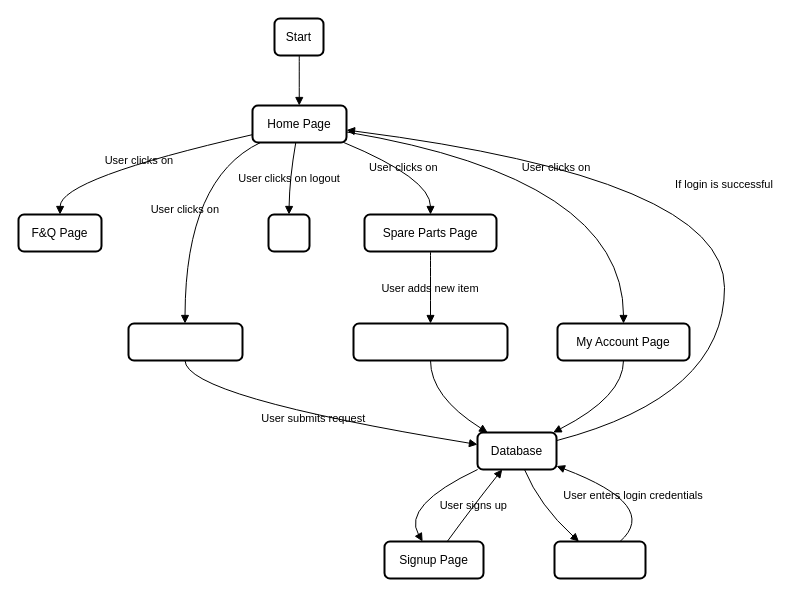
This 790x596 diagram has some shape labels left out. Here are the shapes that lost their labels. From the top down, the centre of each, then its label:
At pixel 288 232: "End".
At pixel 185 341: "Requests Page".
At pixel 430 341: "Add New Item Page".
At pixel 599 559: "Login Page".
